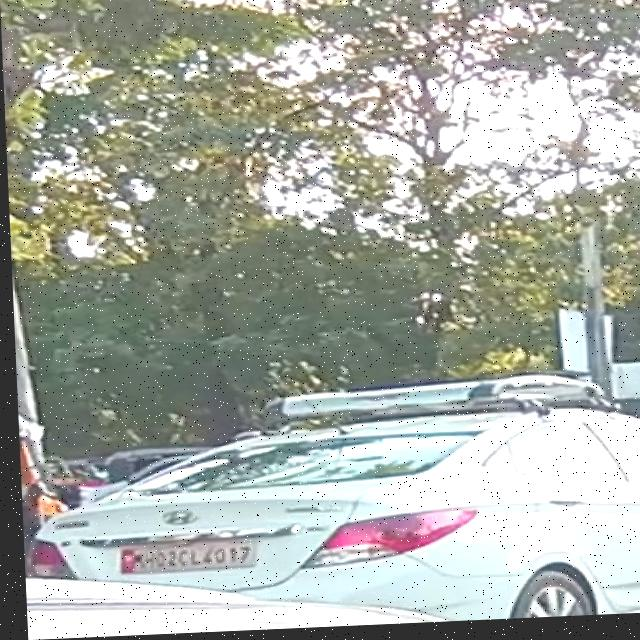plate: (111, 540, 250, 575)
